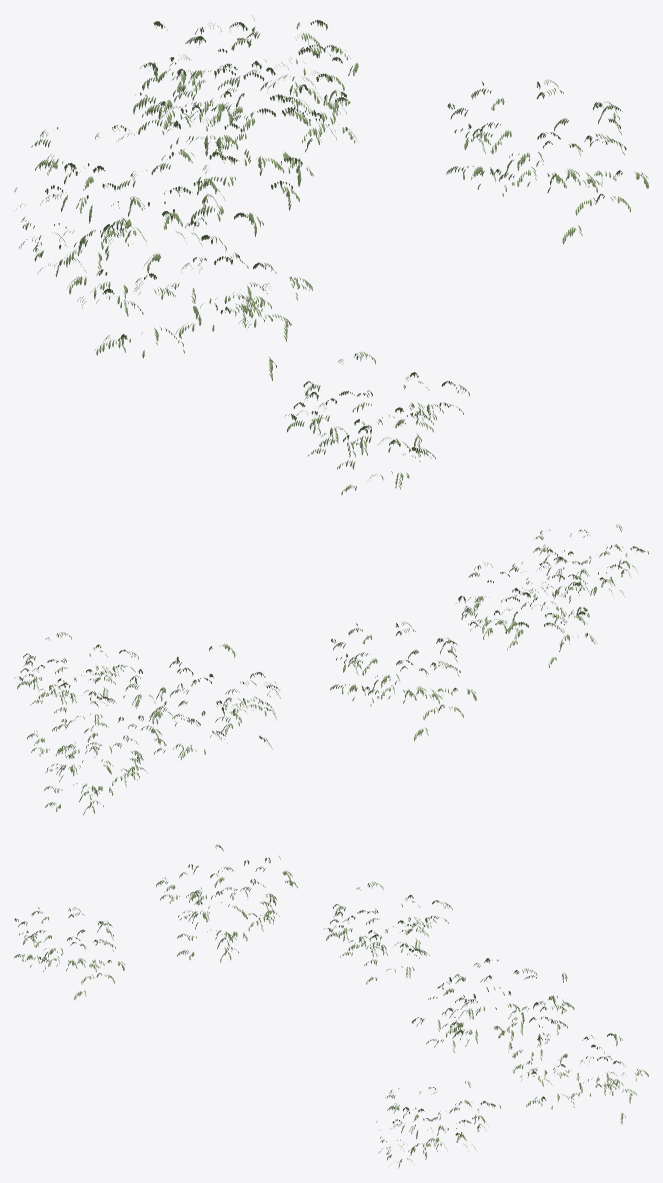
File: eucalyptus--leaf-young.glb
3 renders of one model, top to bottom at view 1: azimuth 30°, elevation 25°; view 2: azimuth 150°, elevation 25°; view 3: azimuth 270°, elevation 25°, orthographic. The views are drawn at different scales.
Visible parts, largest first — view 1: eucalyptus-2, eucalyptus-4, eucalyptus-1, eucalyptus-3, eucalyptus-6, eucalyptus-5; view 2: eucalyptus-2, eucalyptus-4, eucalyptus-1, eucalyptus-6, eucalyptus-3, eucalyptus-5; view 3: eucalyptus-2, eucalyptus-4, eucalyptus-1, eucalyptus-6, eucalyptus-5, eucalyptus-3.
Boxes of the visible parts, x1=… form: eucalyptus-2: x1=133, y1=15, x2=346, y2=221; eucalyptus-4: x1=59, y1=212, x2=312, y2=380; eucalyptus-1: x1=14, y1=113, x2=246, y2=276; eucalyptus-3: x1=446, y1=79, x2=648, y2=244; eucalyptus-6: x1=171, y1=19, x2=358, y2=173; eucalyptus-5: x1=285, y1=351, x2=469, y2=495; eucalyptus-2: x1=123, y1=644, x2=280, y2=760; eucalyptus-4: x1=456, y1=556, x2=597, y2=667; eucalyptus-1: x1=330, y1=622, x2=476, y2=741; eucalyptus-6: x1=27, y1=701, x2=166, y2=815; eucalyptus-3: x1=14, y1=632, x2=138, y2=731; eucalyptus-5: x1=520, y1=524, x2=648, y2=610; eucalyptus-2: x1=411, y1=958, x2=574, y2=1060; eucalyptus-4: x1=156, y1=844, x2=297, y2=962; eucalyptus-1: x1=323, y1=881, x2=452, y2=984; eucalyptus-6: x1=511, y1=1033, x2=648, y2=1124; eucalyptus-5: x1=14, y1=907, x2=124, y2=999; eucalyptus-3: x1=376, y1=1081, x2=500, y2=1168.
Size of the model in its own units: 38.21 by 11.99 by 49.29.
